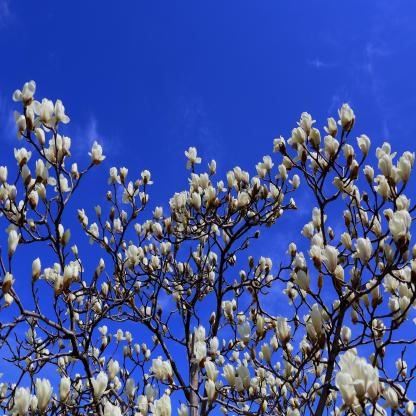Mokuren: (0, 76, 416, 416)
